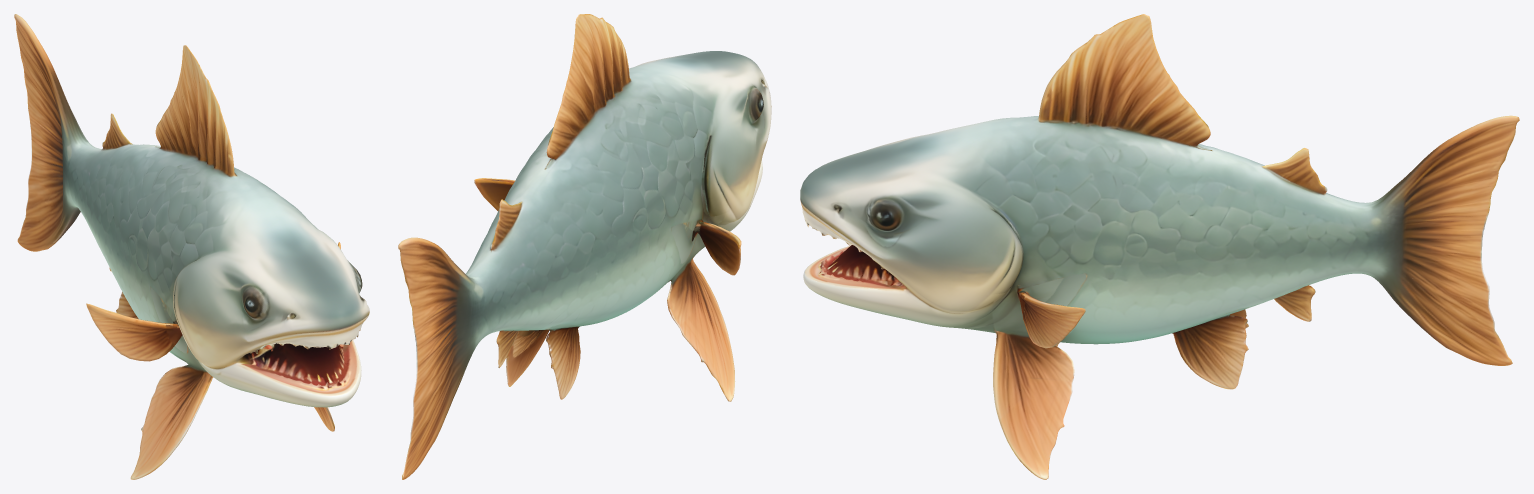
File: sturgeonFish.glb
3 views of the same model, side by side, from view 1: azimuth 30°, elevation 25°; view 2: azimuth 150°, elevation 25°; view 3: azimuth 270°, elevation 25° (orthographic). The views are drawn at different scales.
Parts seen in each view (by area): view 1: model; view 2: model; view 3: model.
Boxes of the visible parts, x1,y1,x2,y2 form: model: [14, 14, 369, 479]; model: [398, 14, 771, 479]; model: [800, 14, 1519, 479].
Size of the model in its own units: 0.8415 by 1.2 by 1.89.
1 material, 1 textured.
